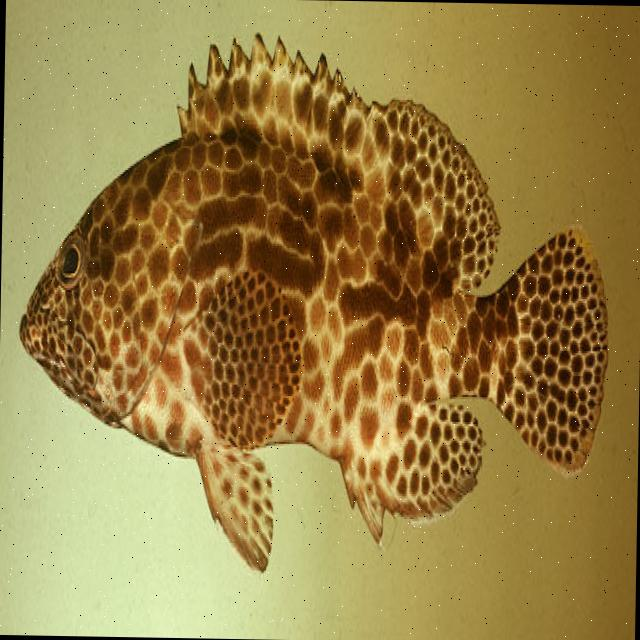ikan: (14, 24, 614, 578)
